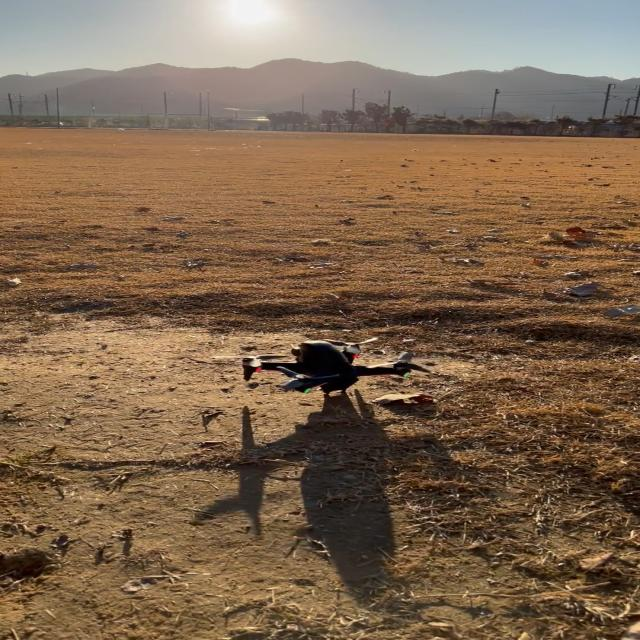drone: (210, 336, 430, 397)
